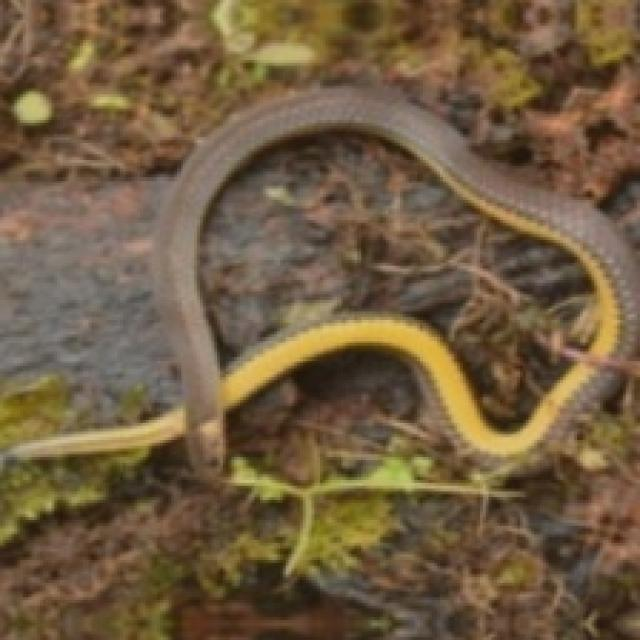gervais worm snake: (3, 86, 637, 477)
